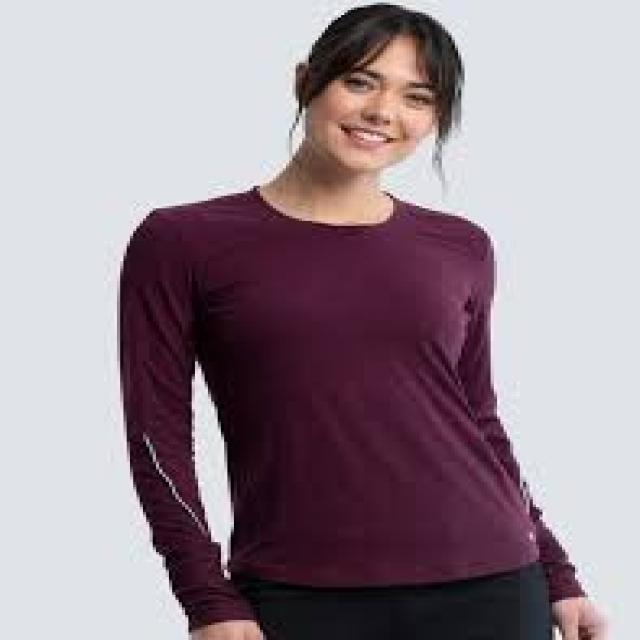plain: (92, 184, 591, 616)
